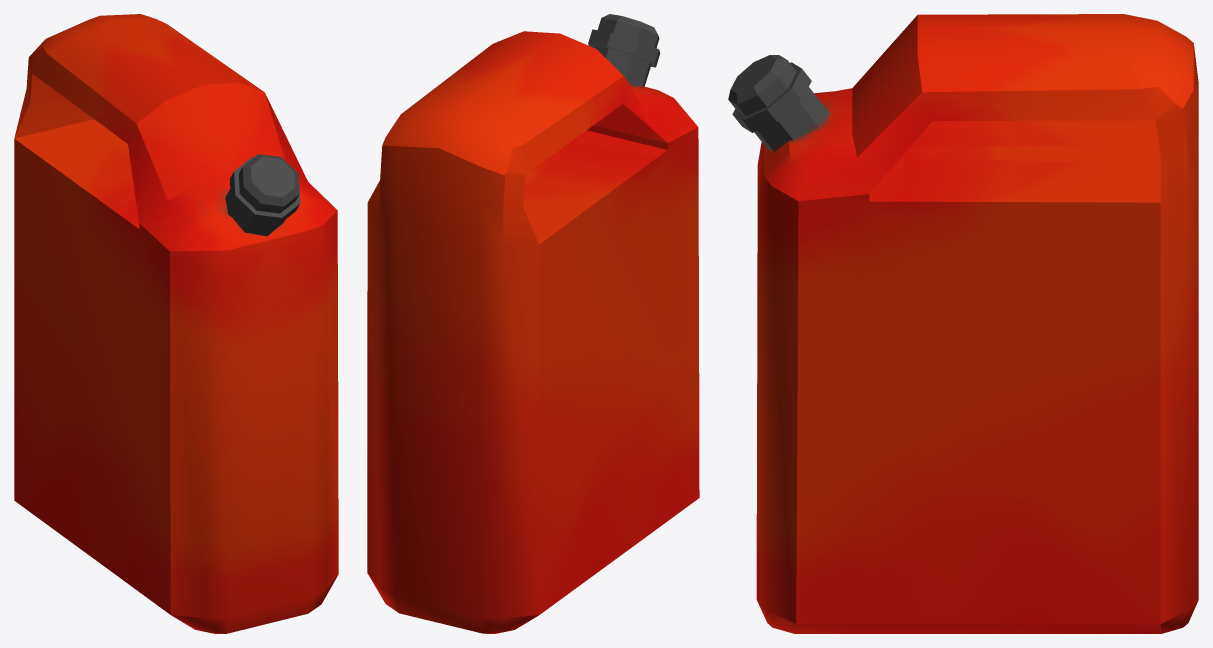
The model's file is fuel.fbx.
3 views of the same model, side by side, from view 1: azimuth 30°, elevation 25°; view 2: azimuth 150°, elevation 25°; view 3: azimuth 270°, elevation 25° (orthographic). The views are drawn at different scales.
Visible parts, largest first — view 1: Cube; view 2: Cube; view 3: Cube.
Part boxes in pixels (bbox=[...]): Cube: bbox=[14, 14, 338, 633]; Cube: bbox=[367, 14, 699, 633]; Cube: bbox=[728, 14, 1198, 633].
Size of the model in its own units: 0.3987 by 1.13 by 0.8248.
